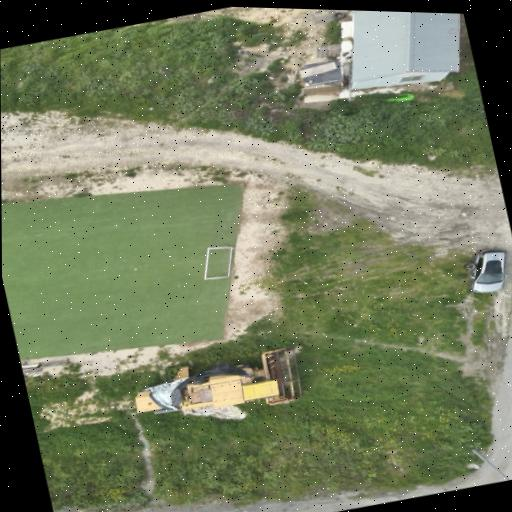car: (470, 248, 505, 292)
harvester: (135, 347, 300, 413)
